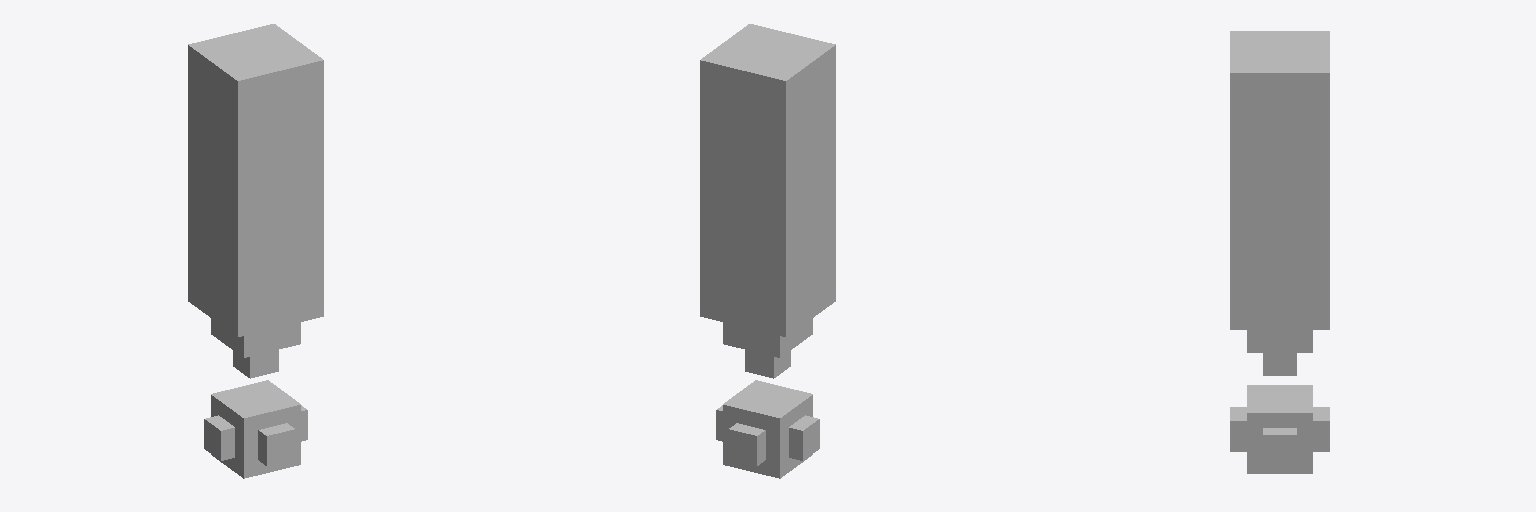
File: Esclamation Mark.obj
3 renders of one model, left to right at view 1: azimuth 30°, elevation 25°; view 2: azimuth 150°, elevation 25°; view 3: azimuth 270°, elevation 25°, orthographic.
Parts seen in each view (by area): view 1: object 1; view 2: object 1; view 3: object 1.
Part boxes in pixels (bbox=[...]): object 1: bbox=[188, 24, 323, 478]; object 1: bbox=[700, 24, 835, 478]; object 1: bbox=[1230, 31, 1329, 473].
Bounding box in the file's own units: 0.6 × 2.7 × 0.6.